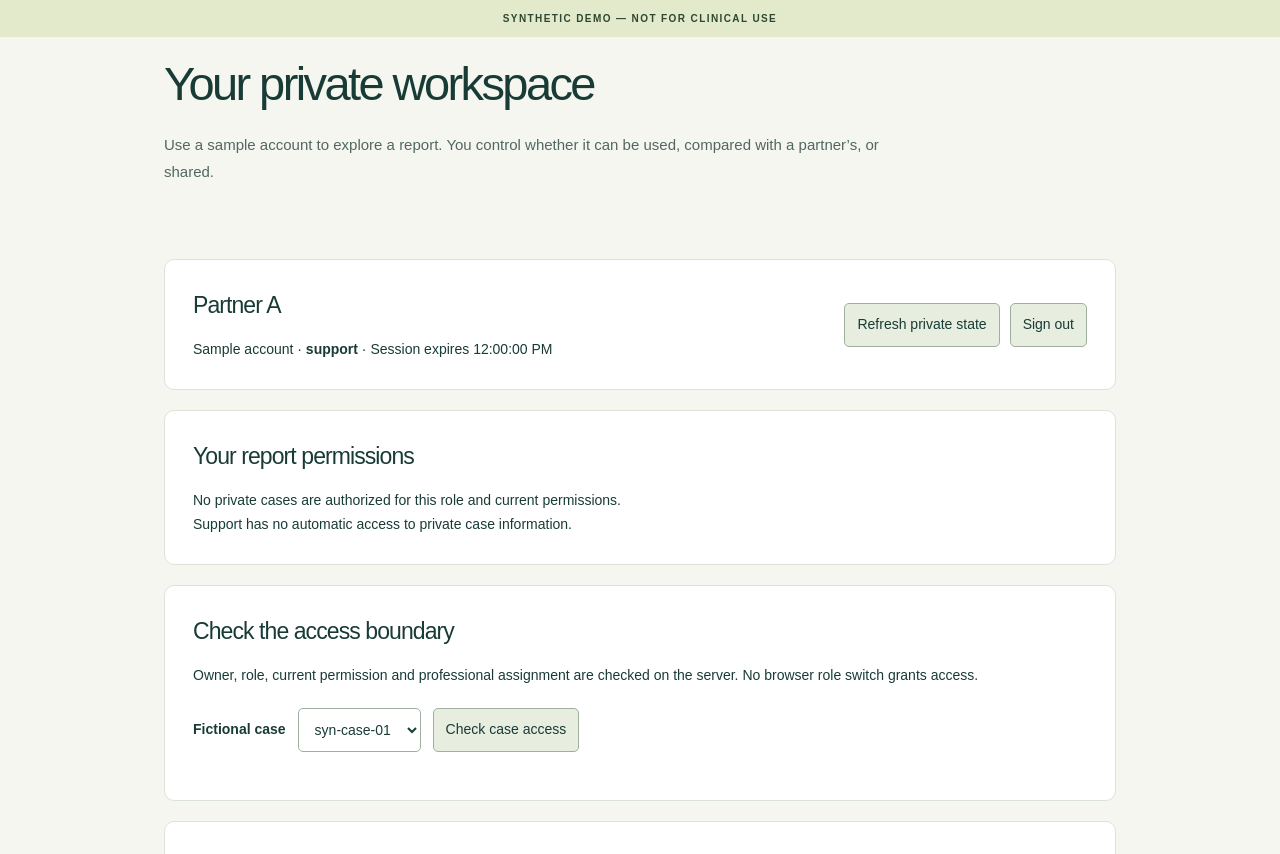
Scenario: independent identity workspace › does not give support automatic case access
Expected: the text "Support has no automatic access to private case information." is shown, [193,516,572,532]
Click the button "Check case access". click: (506, 730)
box: [433,708,579,752]
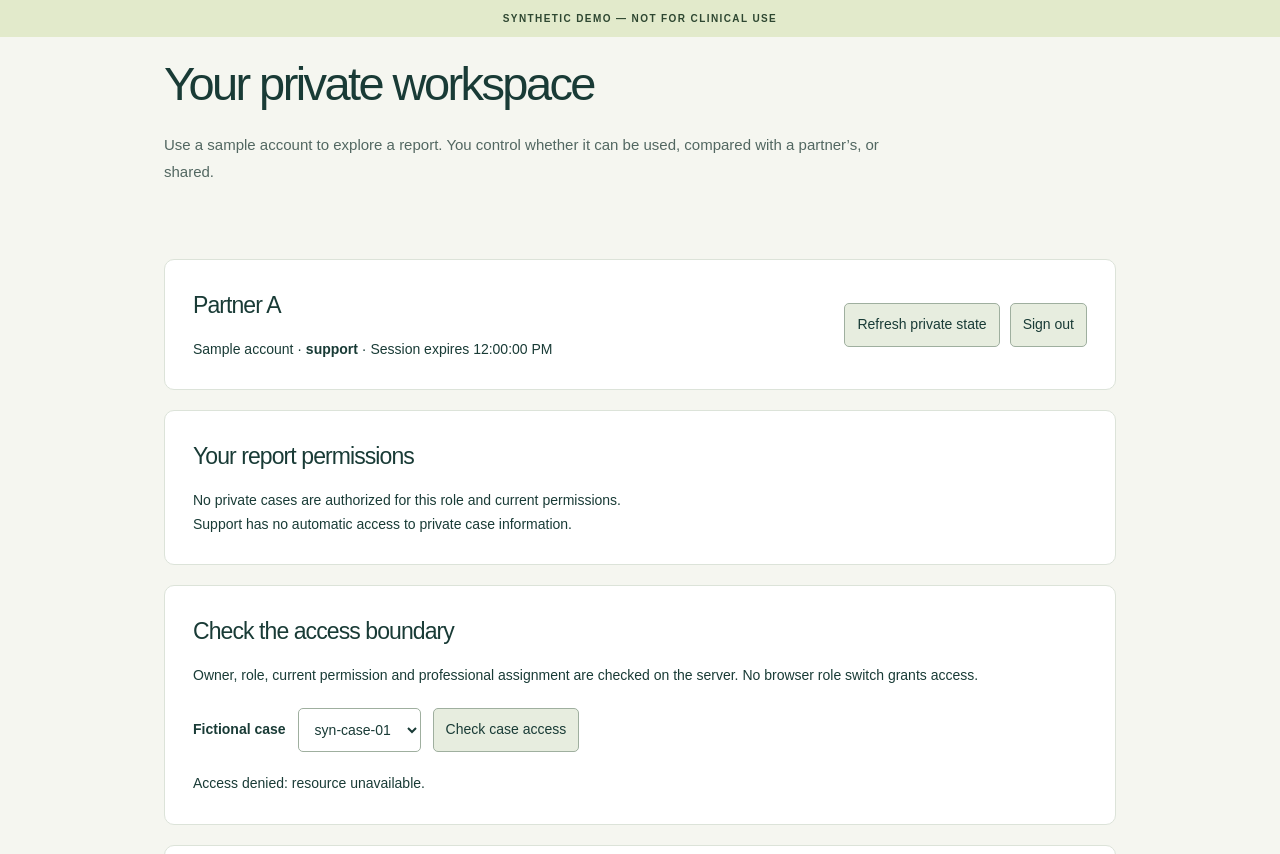
Result: the text "Access denied: resource unavailable." is shown at [193,775,425,791]
